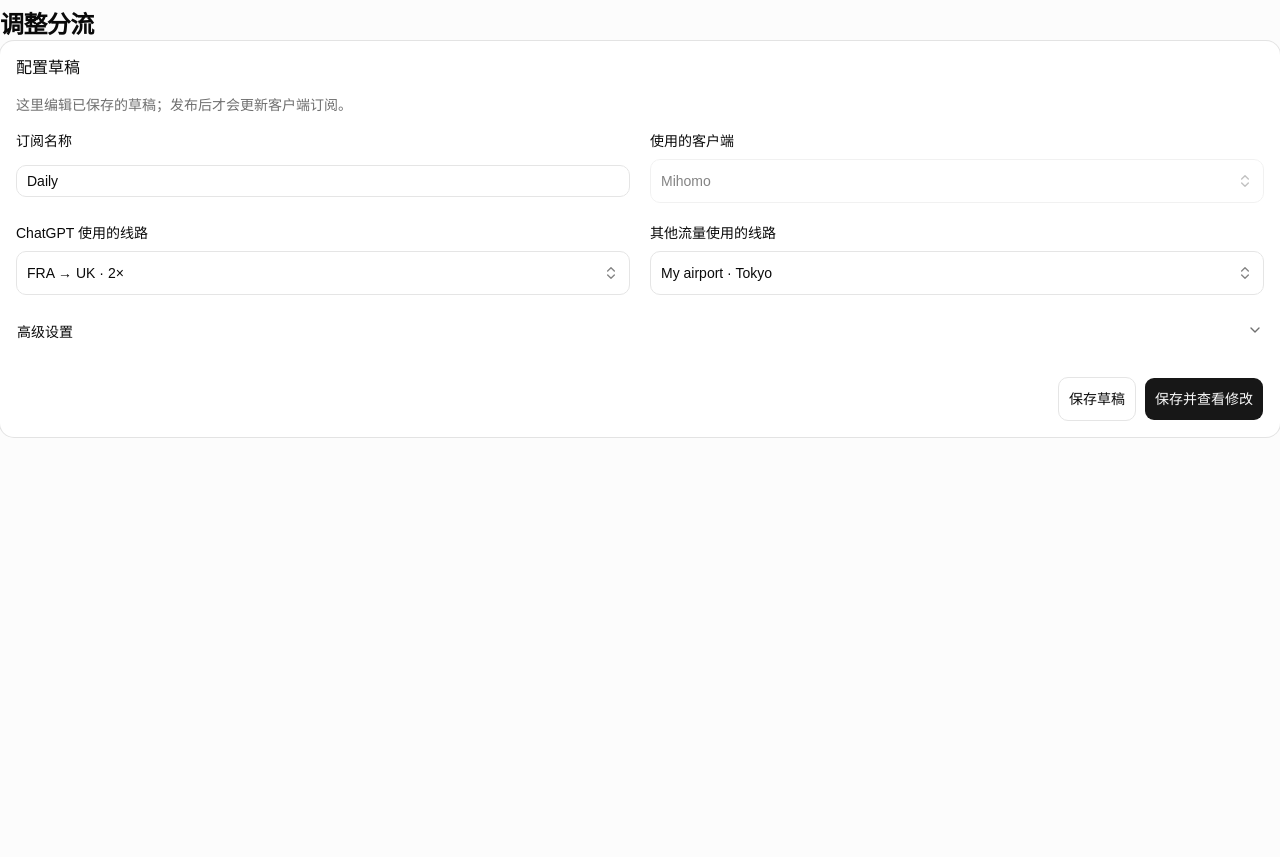
it: fences an existing subscription update with its preview digest and keeps edits after conflict
Check: the dropdown named "ChatGPT 使用的线路" is shown, box [16, 251, 630, 295]
What coordinates should you click on to do the following:
click the button "保存并查看修改"
I would click on:
 (1204, 399)
Its box is [1144, 377, 1264, 421].
(page scrolled)
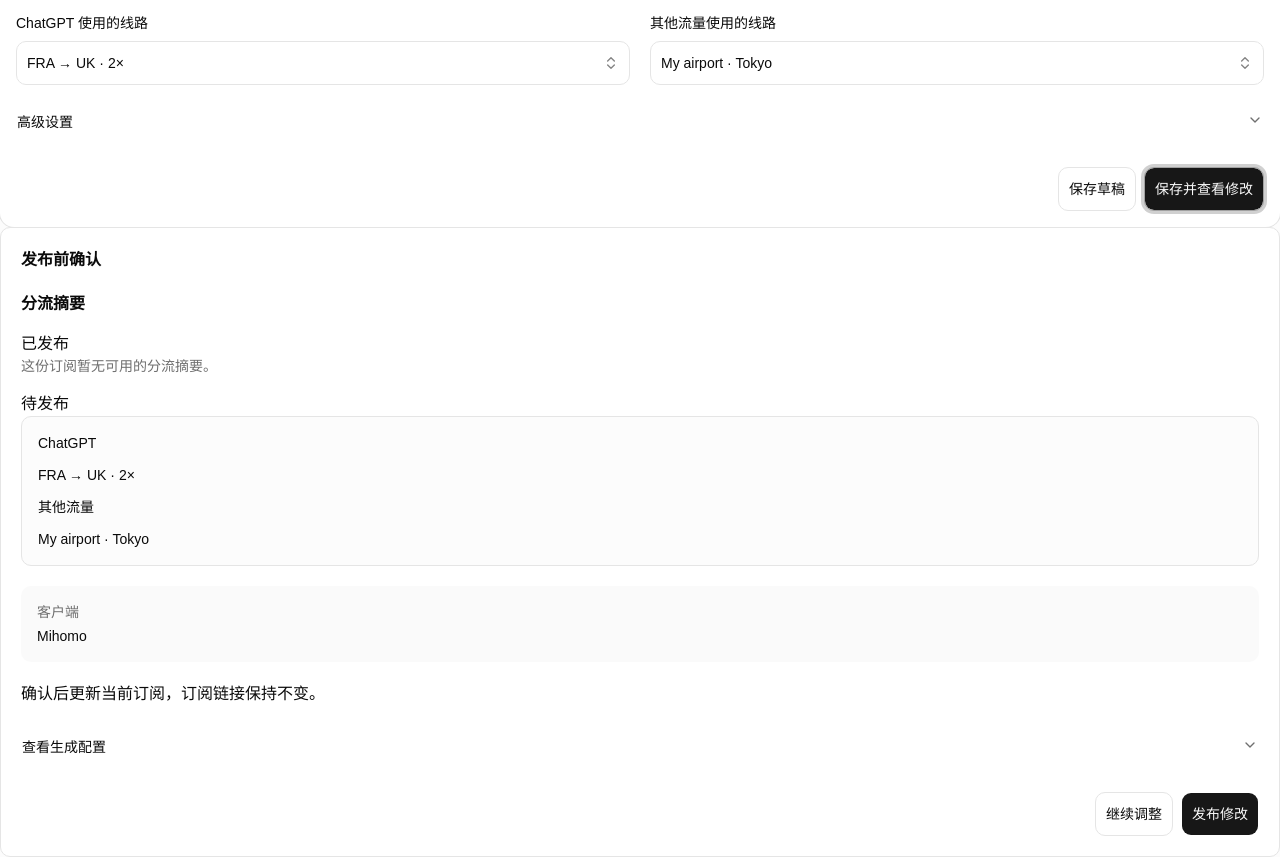
Check: the element "发布前确认" is shown
What coordinates should you click on to do the following:
click the button "发布修改"
I would click on:
 (1220, 814)
Its box is [1181, 792, 1259, 836].
(page scrolled)
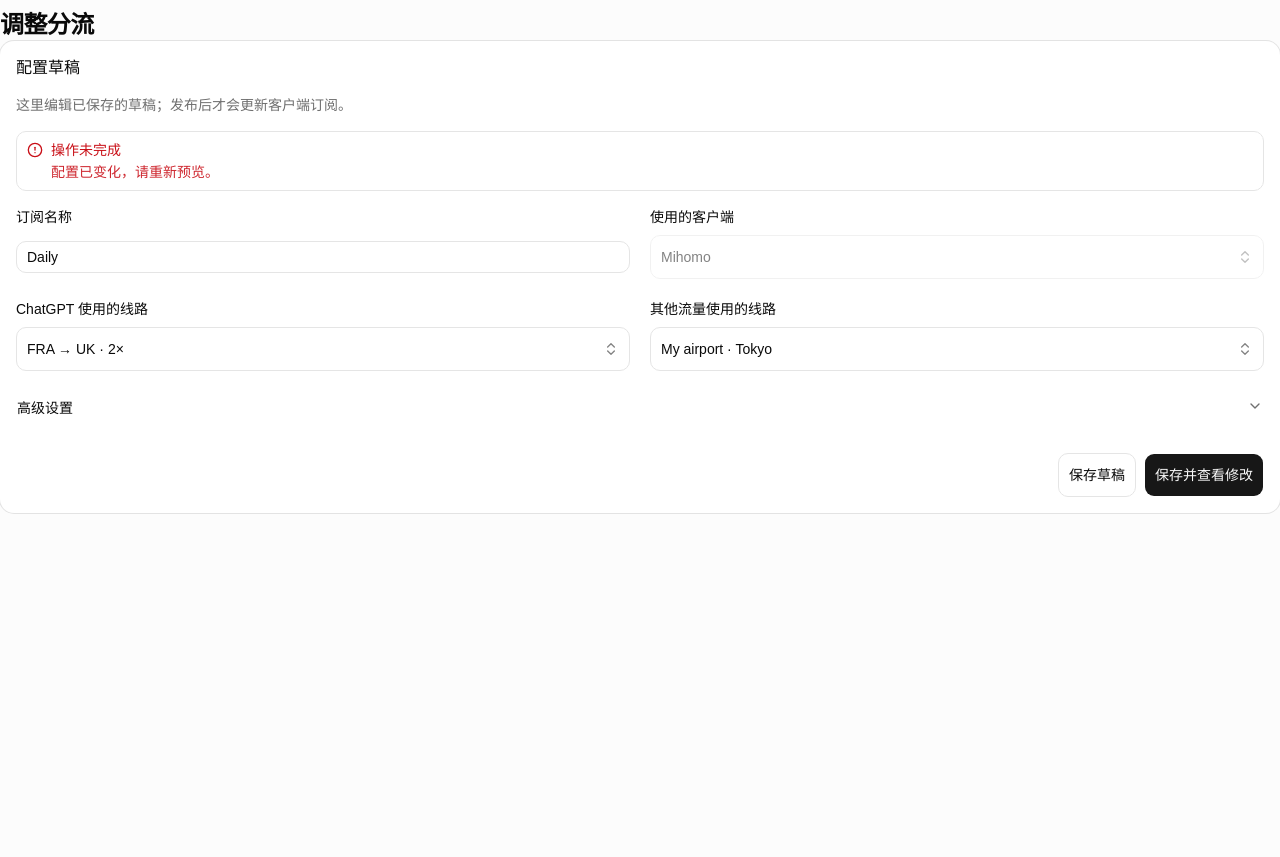
Check: the dropdown named "其他流量使用的线路" reads "My airport · Tokyo", box [650, 327, 1264, 371]
Check: the text "配置已变化，请重新预览。" is shown, box [51, 164, 219, 180]
Check: the heading "发布前确认" is gone
